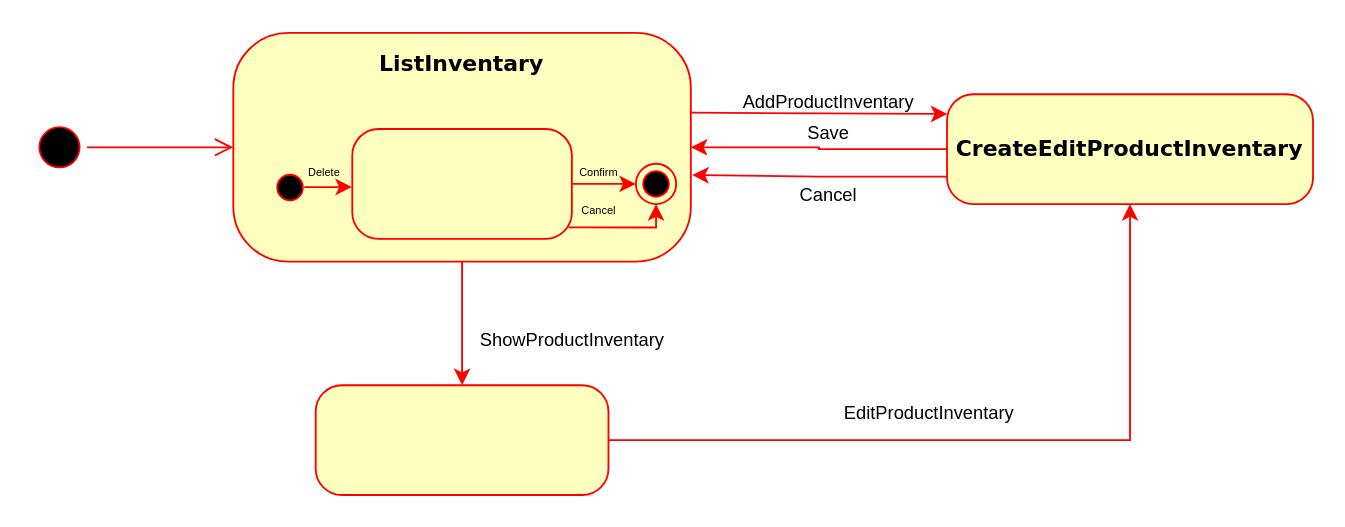
Image size: 1345x527. Some labels were removed from this diagram. The shapes that lost their labels are listed below. From the top down, each one's box as (x1, y1, x2, y2) in pixels, then its label:
(350, 127, 572, 239): SelectProduct
(314, 383, 608, 495): InfoProductInventary
